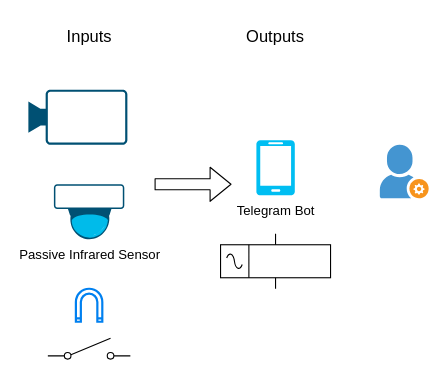
Image size: 448x380. Some labels were removed from this diagram. Each missing label, with the box of its shape:
IP camera: (28, 89, 127, 144)
relay: (219, 233, 331, 289)
